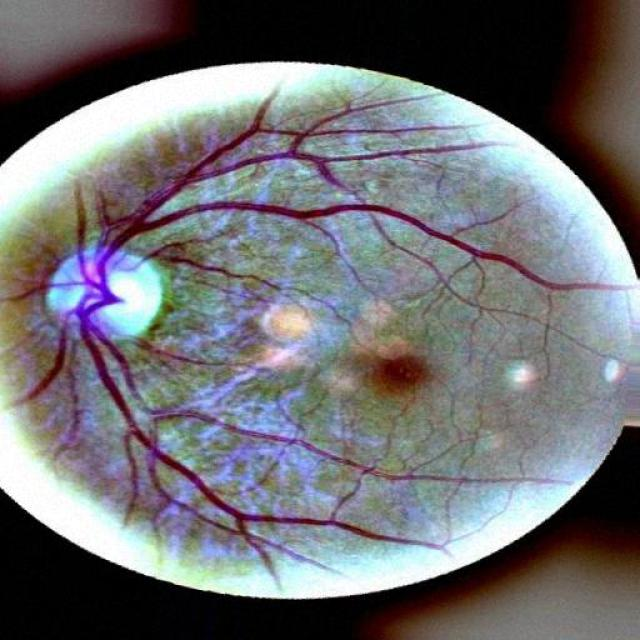Macula: (371, 355, 424, 391)
Nerves: (19, 108, 616, 566), (146, 409, 380, 475)
Optic Disk: (46, 244, 169, 338)
